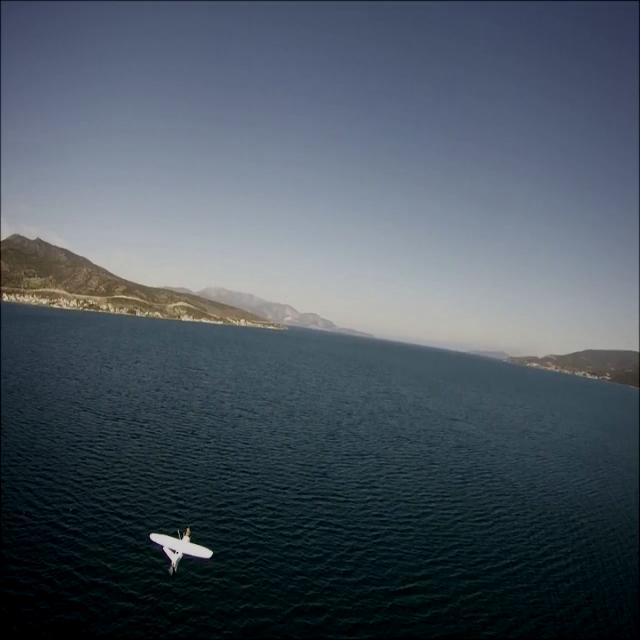iha: (184, 517, 186, 575)
